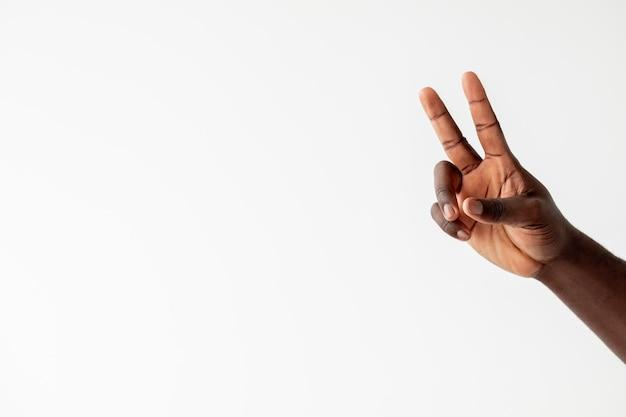peace_sign: (413, 65, 585, 296)
